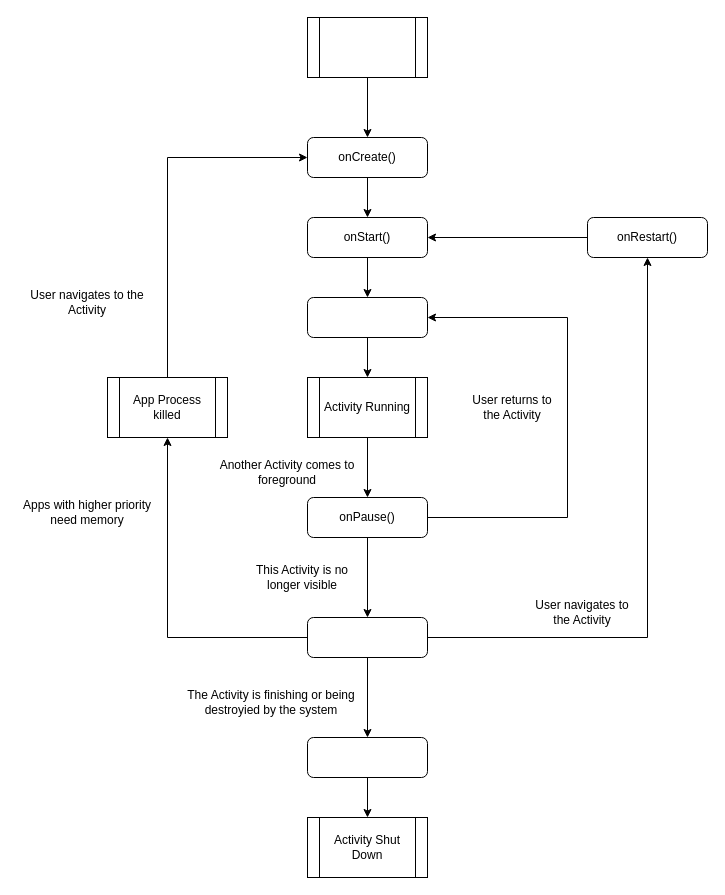
Image size: 725x895. Some labels were removed from this diagram. The centre of each missing label's shape, as x and y in pixels:
Activity Lauched: pixel 367 47
onDestroy(): pixel 367 757
onResume(): pixel 367 317
onStop(): pixel 367 637
